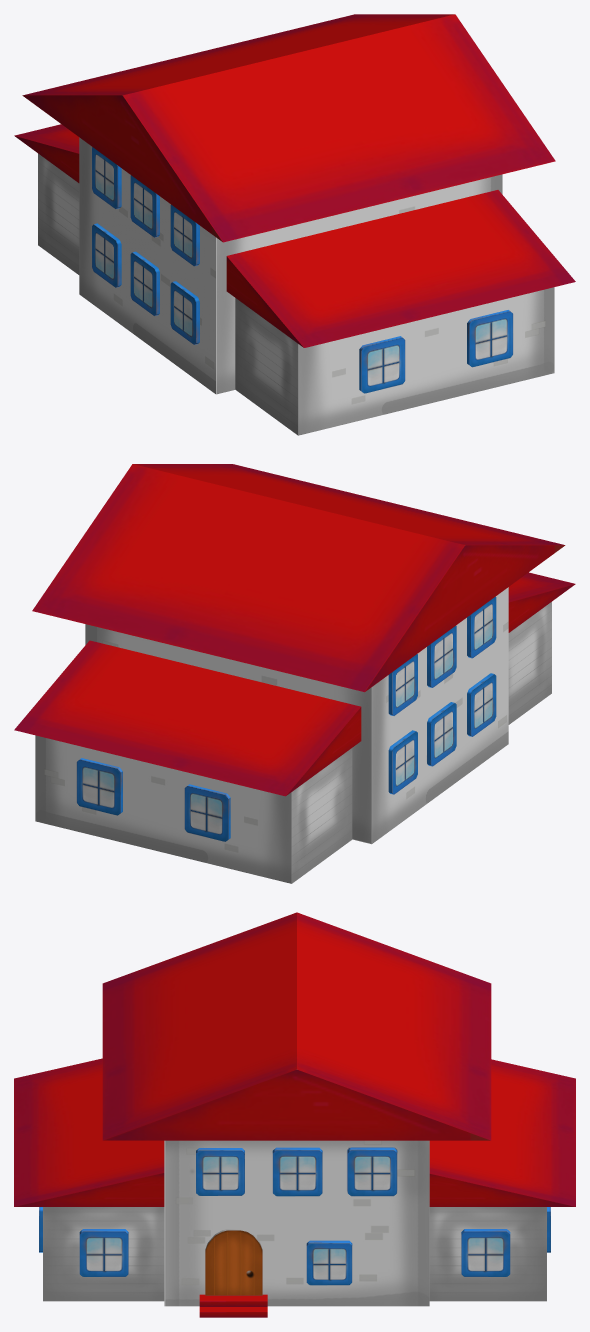
The model's file is House_4.fbx.
3 renders of one model, top to bottom at view 1: azimuth 30°, elevation 25°; view 2: azimuth 150°, elevation 25°; view 3: azimuth 270°, elevation 25°, orthographic. The views are drawn at different scales.
Parts seen in each view (by area): view 1: House_4; view 2: House_4; view 3: House_4.
Boxes of the visible parts, x1=… form: House_4: x1=14, y1=14, x2=575, y2=435; House_4: x1=14, y1=464, x2=575, y2=883; House_4: x1=14, y1=912, x2=575, y2=1317.
Bounding box in the file's own units: 9.61 × 6.96 × 14.36.
